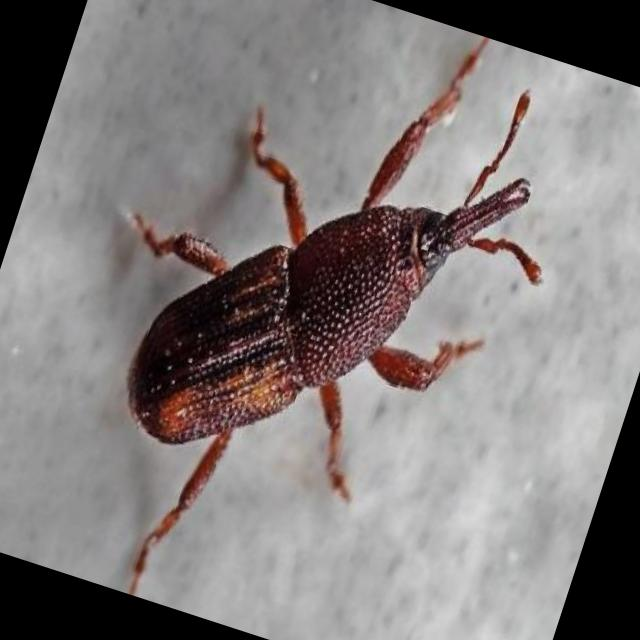rice-bug: (100, 38, 557, 552)
